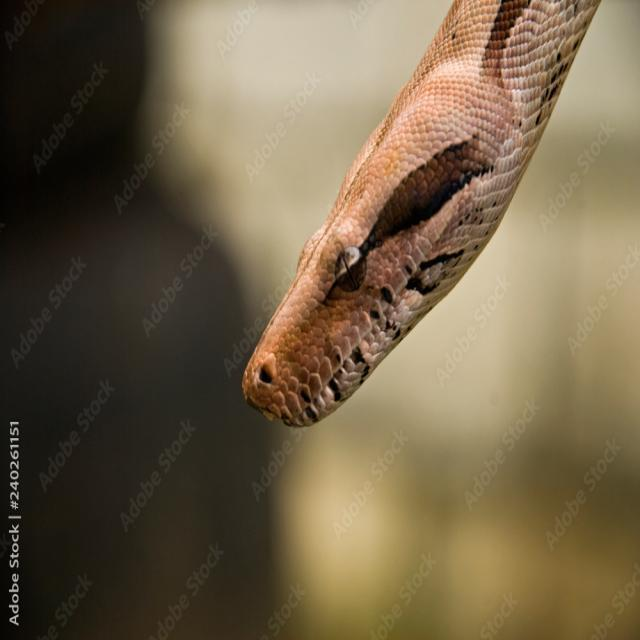Snake: (242, 0, 640, 459)
